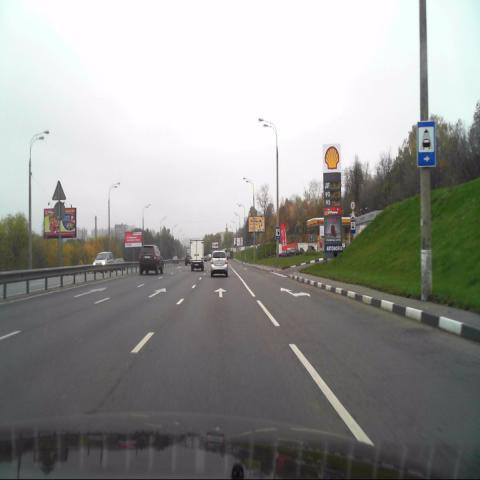7_5: (416, 121, 436, 168)
